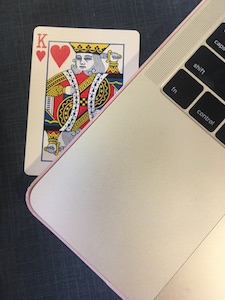KingOfHearts: (24, 24, 142, 180)
